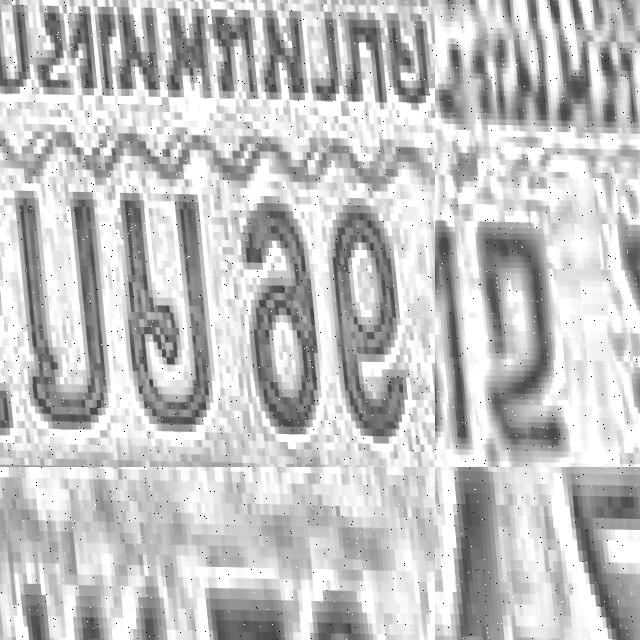license-plate: (0, 0, 435, 467), (435, 0, 640, 467), (0, 467, 435, 640), (435, 467, 640, 640)
